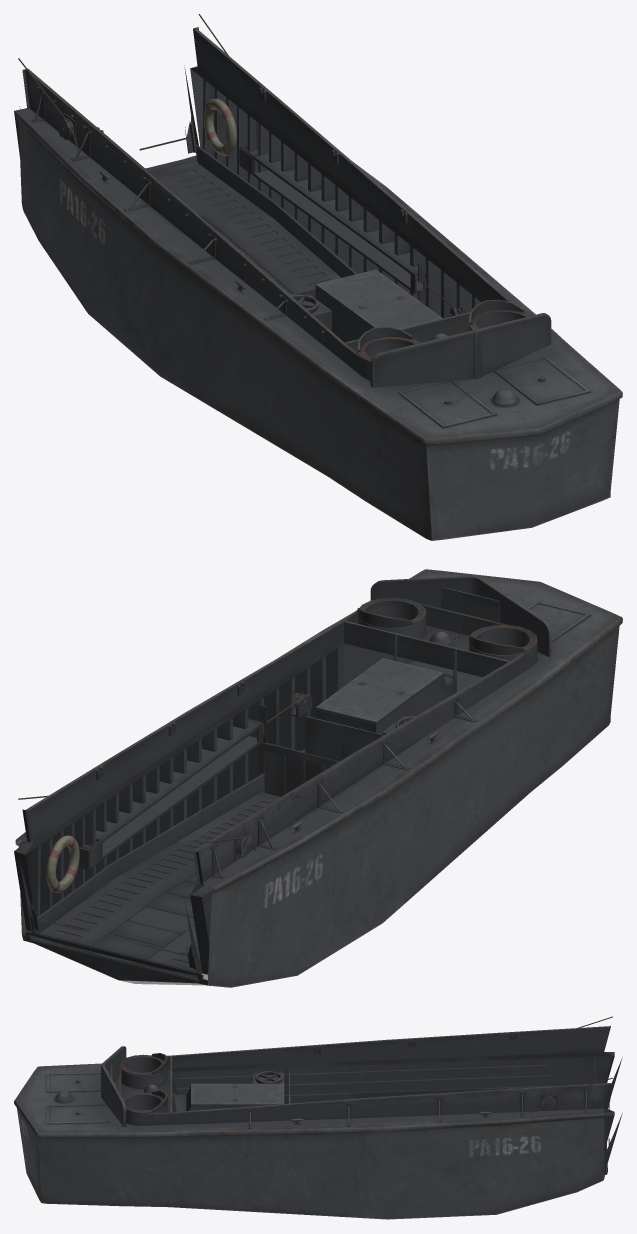
File: lcvp_sem_rampa.glb
3 renders of one model, top to bottom at view 1: azimuth 30°, elevation 25°; view 2: azimuth 150°, elevation 25°; view 3: azimuth 270°, elevation 25°, orthographic. The views are drawn at different scales.
Visible parts, largest first — view 1: lcvp_LCVP_0, torret2_LCVP_0, torret1_LCVP_0, lifesaver_lifesaver_0; view 2: lcvp_LCVP_0, door_LCVP_0, torret1_LCVP_0, torret2_LCVP_0, lifesaver_lifesaver_0; view 3: lcvp_LCVP_0, torret2_LCVP_0, torret1_LCVP_0.
Part boxes in pixels (x1,y1,x2,y2): lcvp_LCVP_0: (14,27,622,540); torret2_LCVP_0: (357,327,420,362); torret1_LCVP_0: (469,299,531,329); lifesaver_lifesaver_0: (203,98,236,155); lcvp_LCVP_0: (14,569,622,987); door_LCVP_0: (25,892,203,980); torret1_LCVP_0: (357,597,426,627); torret2_LCVP_0: (469,625,537,654); lifesaver_lifesaver_0: (46,835,79,892); lcvp_LCVP_0: (14,1025,622,1219); torret2_LCVP_0: (119,1053,167,1075); torret1_LCVP_0: (122,1090,167,1113).
Size of the model in its own units: 3.25 by 2.87 by 10.67.
4 materials, 4 textured.
